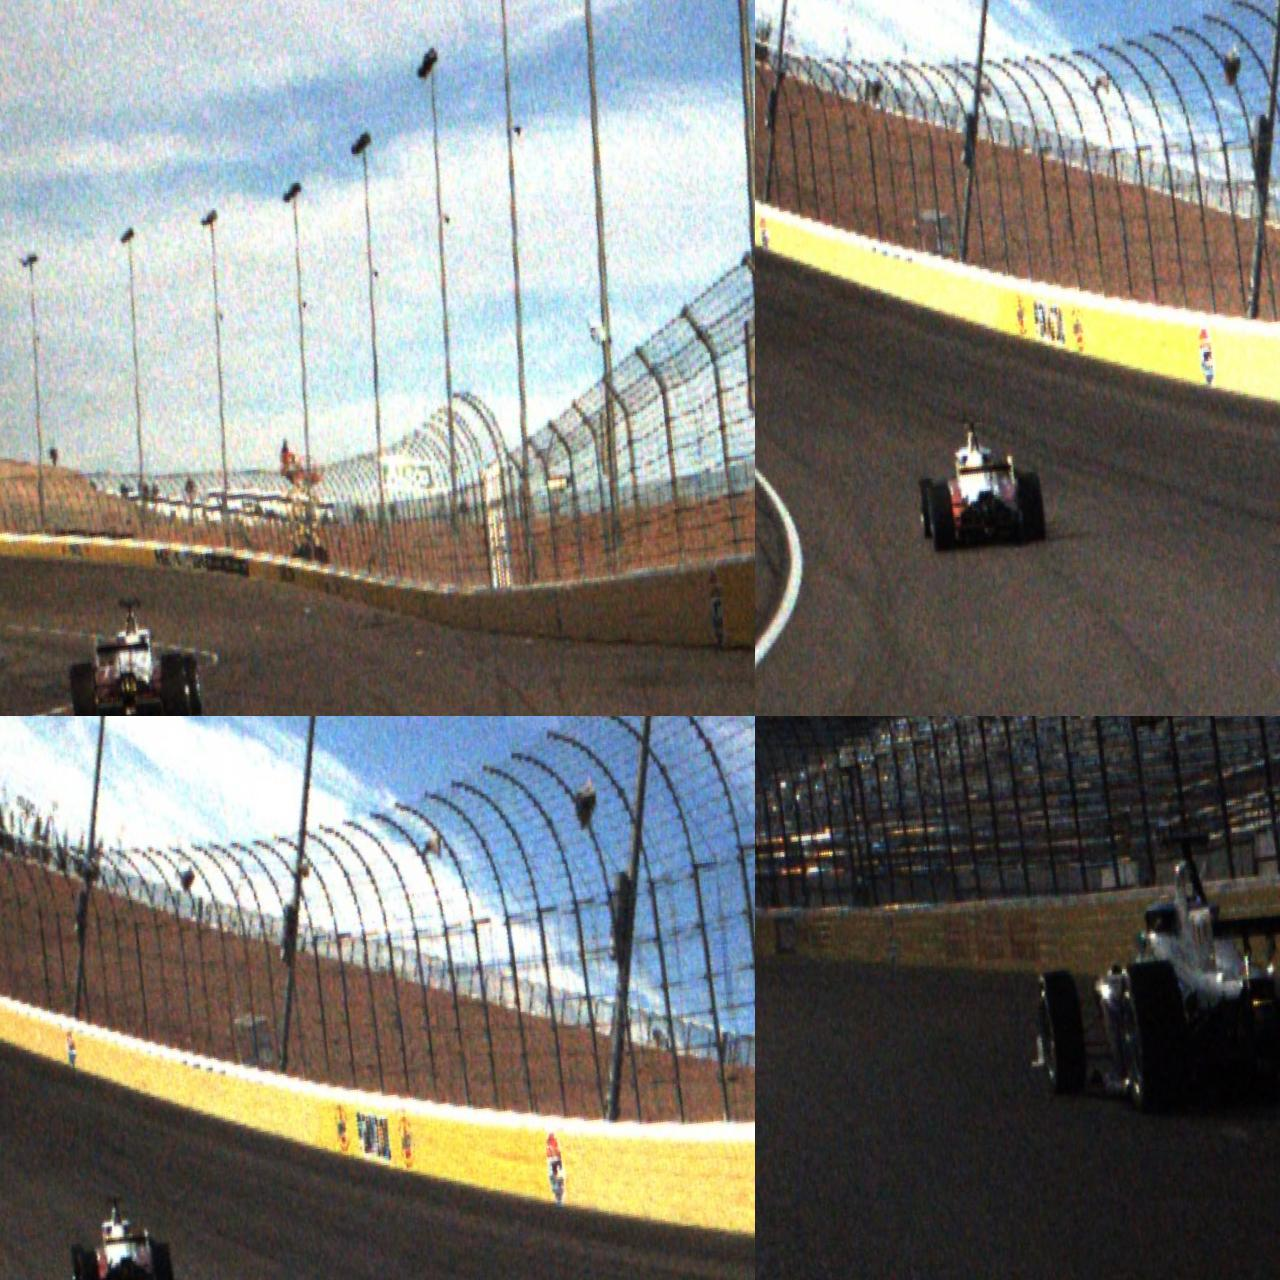AV: (1007, 804, 1280, 1135), (911, 408, 1047, 554), (62, 593, 203, 716), (63, 1189, 176, 1280)
Wheel: (1114, 956, 1198, 1115), (1035, 966, 1092, 1102), (158, 652, 191, 716), (1018, 470, 1046, 544), (928, 482, 956, 553), (69, 662, 100, 716), (180, 653, 202, 716), (917, 477, 939, 540), (153, 1241, 175, 1280), (79, 1249, 103, 1280), (71, 1242, 88, 1280)
